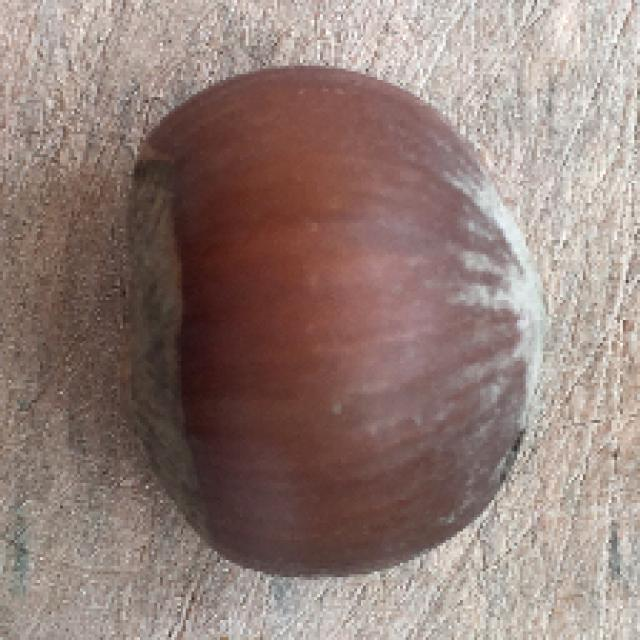damagedHazelnut: (129, 61, 538, 583)
